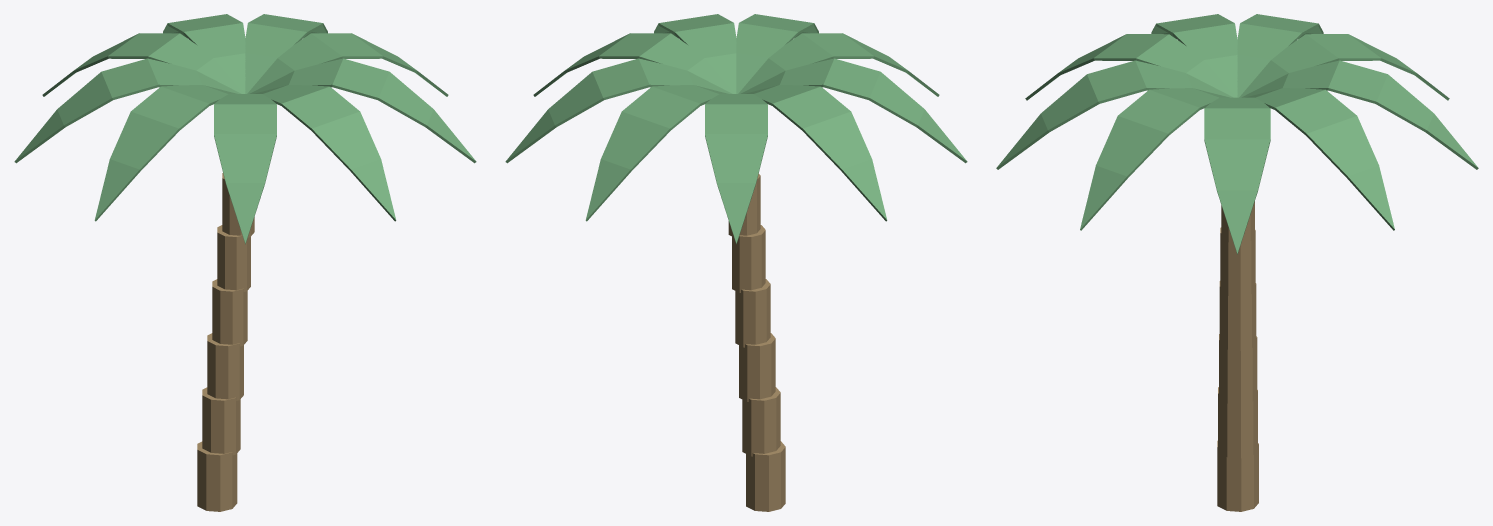
File: Palm.fbx
3 views of the same model, side by side, from view 1: azimuth 30°, elevation 25°; view 2: azimuth 150°, elevation 25°; view 3: azimuth 270°, elevation 25° (orthographic). The views are drawn at different scales.
Parts seen in each view (by area): view 1: Palm frond.006, Palm frond.005, Palm frond.007, Palm frond.004, Palm frond.008, Palm frond, Palm frond.003, Palm frond.001, Palm frond.002, Palm trunk segment, Palm trunk segment.001, Palm trunk segment.002 (+3 smaller); view 2: Palm frond.003, Palm frond.002, Palm frond.004, Palm frond.001, Palm frond.005, Palm frond, Palm frond.006, Palm frond.007, Palm frond.008, Palm trunk segment, Palm trunk segment.001, Palm trunk segment.002 (+3 smaller); view 3: Palm frond, Palm frond.001, Palm frond.008, Palm frond.002, Palm frond.007, Palm frond.003, Palm frond.006, Palm frond.004, Palm frond.005, Palm trunk segment, Palm trunk segment.001, Palm trunk segment.002 (+2 smaller).
Part boxes in pixels (x1,y1,x2,y2): Palm frond.006: [214, 94, 276, 244]; Palm frond.005: [94, 85, 237, 221]; Palm frond.007: [253, 85, 396, 221]; Palm frond.004: [14, 58, 241, 163]; Palm frond.008: [249, 58, 476, 163]; Palm frond: [247, 33, 448, 96]; Palm frond.003: [42, 33, 243, 96]; Palm frond.001: [245, 14, 327, 93]; Palm frond.002: [163, 14, 245, 93]; Palm trunk segment: [197, 441, 237, 511]; Palm trunk segment.001: [202, 387, 240, 455]; Palm trunk segment.002: [207, 333, 243, 400]; Palm frond.003: [705, 94, 767, 244]; Palm frond.002: [585, 85, 728, 221]; Palm frond.004: [744, 85, 887, 221]; Palm frond.001: [505, 58, 732, 163]; Palm frond.005: [740, 58, 967, 163]; Palm frond: [533, 33, 734, 96]; Palm frond.006: [738, 33, 939, 96]; Palm frond.007: [736, 14, 818, 93]; Palm frond.008: [654, 14, 736, 93]; Palm trunk segment: [746, 441, 785, 511]; Palm trunk segment.001: [742, 387, 780, 456]; Palm trunk segment.002: [739, 333, 775, 401]; Palm frond: [1204, 97, 1270, 254]; Palm frond.001: [1245, 88, 1394, 230]; Palm frond.008: [1080, 88, 1229, 230]; Palm frond.002: [1241, 60, 1478, 169]; Palm frond.007: [996, 60, 1233, 169]; Palm frond.003: [1239, 34, 1449, 100]; Palm frond.006: [1025, 34, 1235, 100]; Palm frond.004: [1237, 14, 1323, 97]; Palm frond.005: [1151, 14, 1237, 97]; Palm trunk segment: [1217, 440, 1258, 511]; Palm trunk segment.001: [1218, 387, 1257, 458]; Palm trunk segment.002: [1219, 334, 1257, 404].
Bounding box in the file's own units: 233 × 244 × 236.
